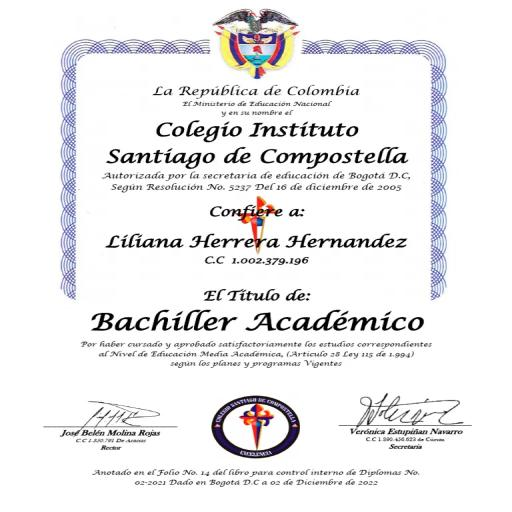bachillerato: (78, 302, 440, 345)
diploma: (3, 6, 475, 508)
escudo: (200, 9, 310, 81)
firma: (27, 390, 188, 455), (337, 385, 470, 454)
institucion: (92, 116, 420, 166)
nombre: (93, 228, 415, 259)
